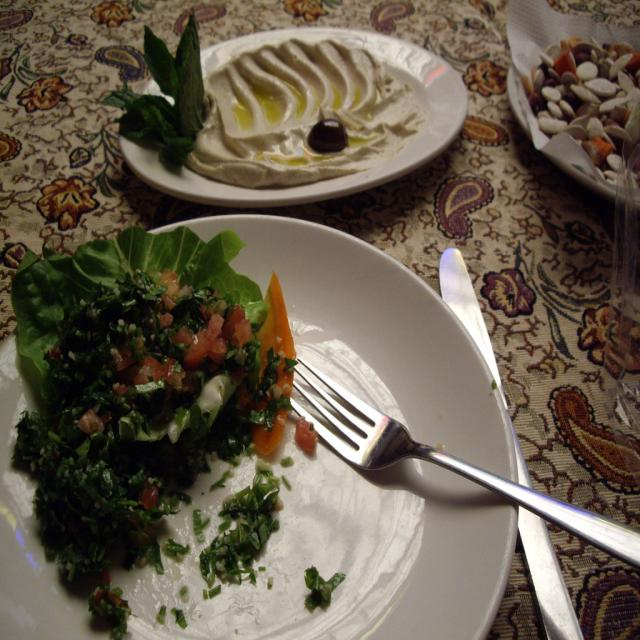non-organic waste: (0, 218, 512, 639), (126, 33, 468, 192)
